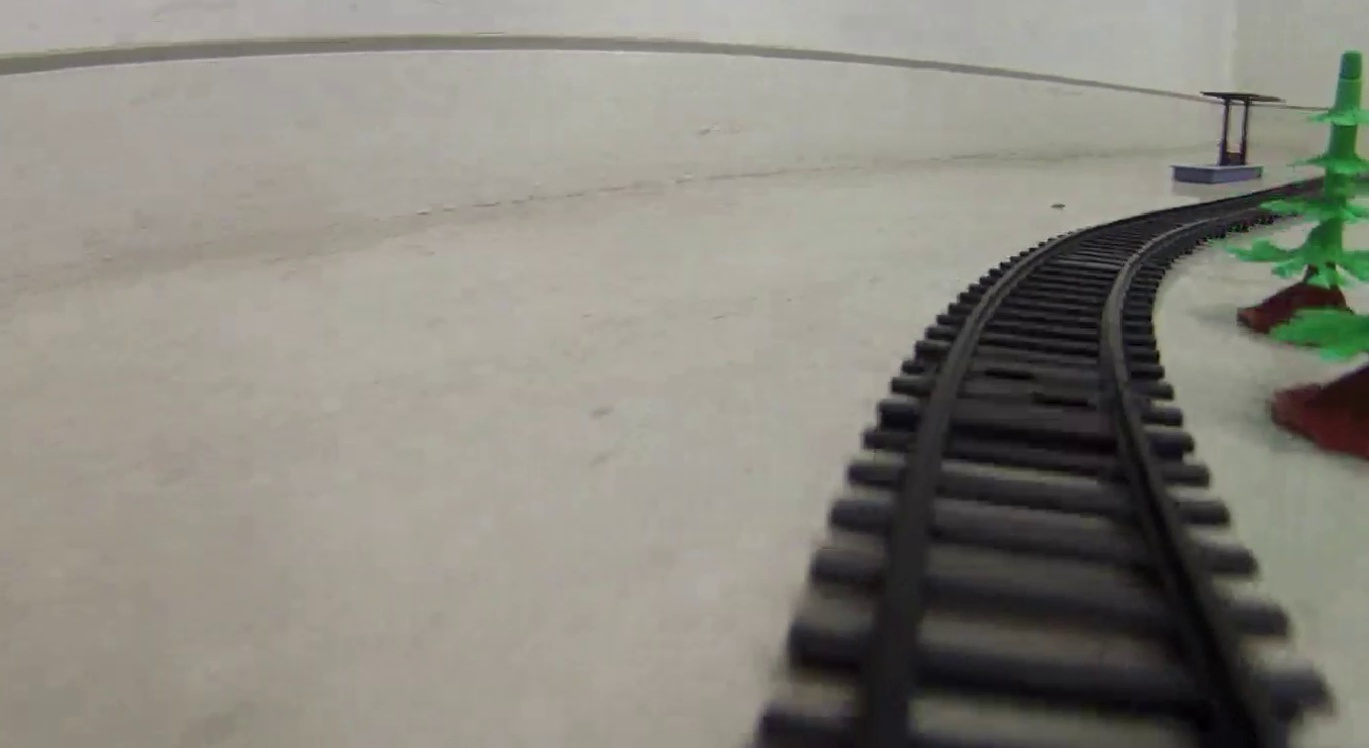tree: (1266, 47, 1369, 324)
